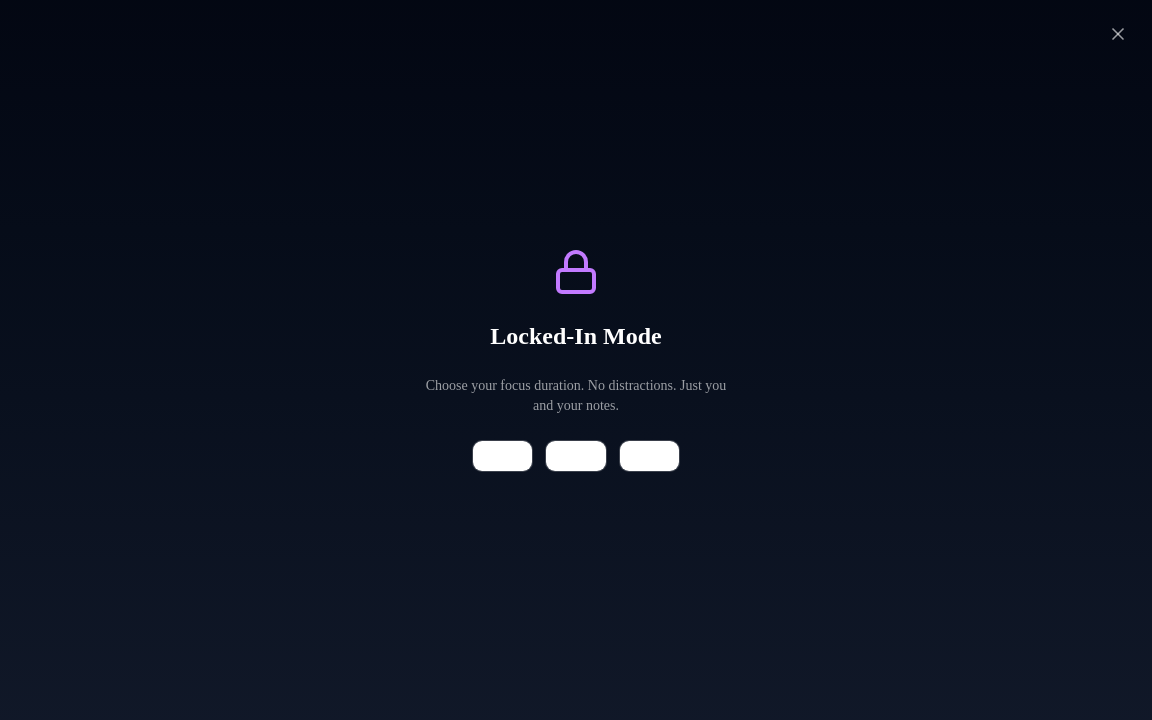
it: LockedInMode Component › transitions to active phase when preset is selected
What coordinates should you click on to do the following:
click the button "25 min"
I would click on:
 (503, 456)
Its box is [472,440,533,472].
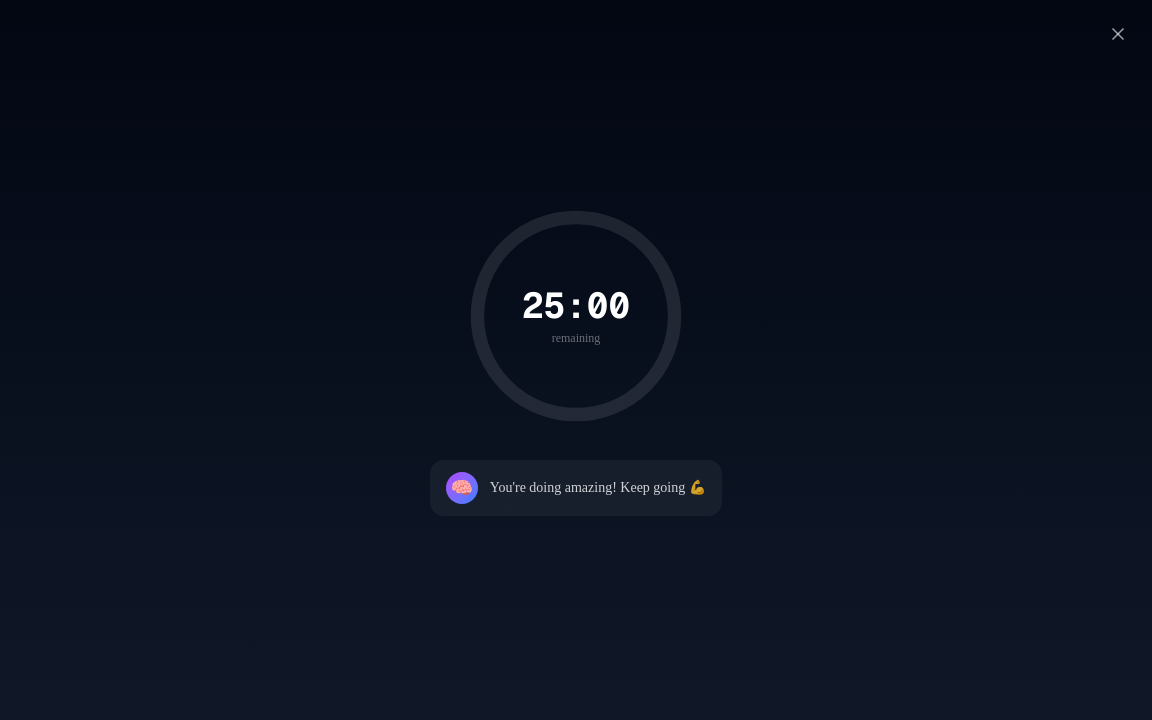
Expected: the text "remaining" is shown, [552,330,600,346]
Expected: the text "25:00" is shown, [522,286,630,326]
